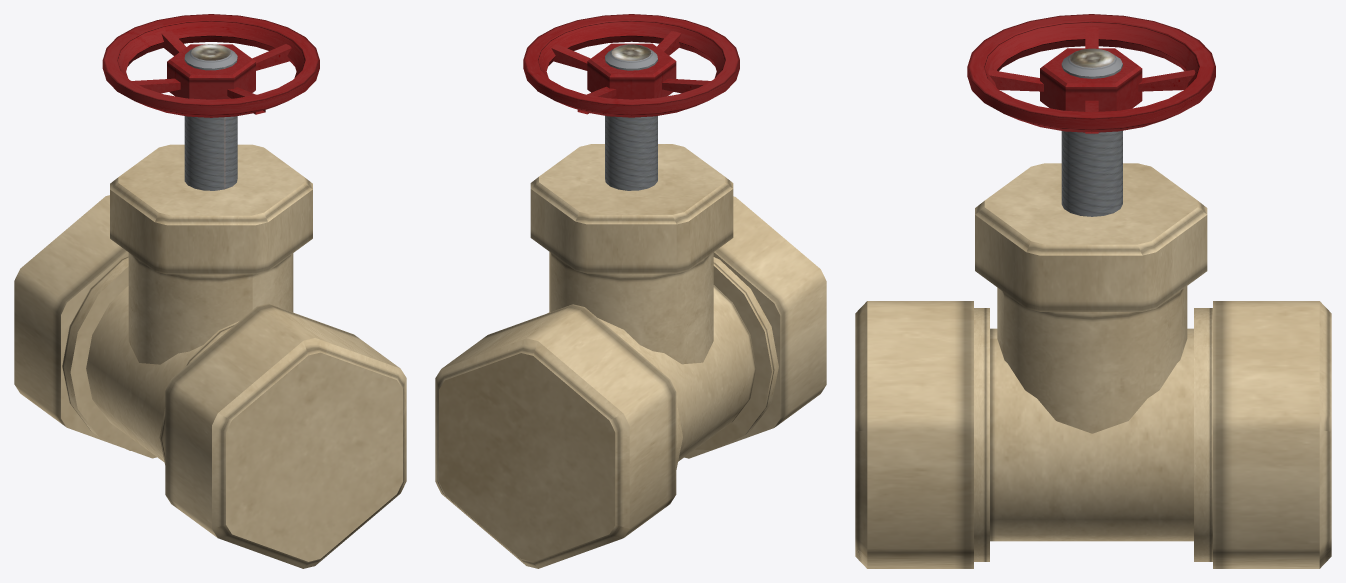
The model's file is Small_Pipe_Valve.fbx.
3 views of the same model, side by side, from view 1: azimuth 30°, elevation 25°; view 2: azimuth 150°, elevation 25°; view 3: azimuth 270°, elevation 25° (orthographic). The views are drawn at different scales.
Visible parts, largest first — view 1: Small_Pipe_Valve; view 2: Small_Pipe_Valve; view 3: Small_Pipe_Valve.
Part boxes in pixels (left/top/right/bottom): Small_Pipe_Valve: left=14, top=14, right=406, bottom=568; Small_Pipe_Valve: left=435, top=14, right=826, bottom=568; Small_Pipe_Valve: left=855, top=14, right=1331, bottom=568.
Bounding box in the file's own units: 30.07 × 65.36 × 55.59.
